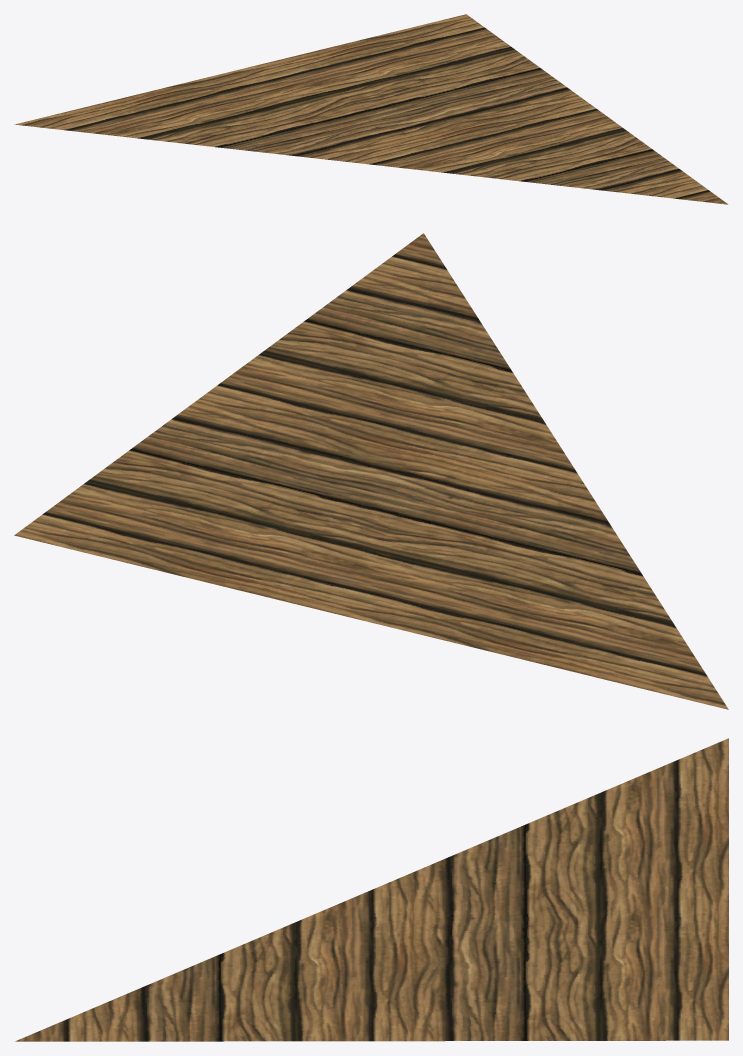
The model's file is LAKETOWN_EXTERIOR_PS_LT_PIER_WOOD15.fbx.
3 renders of one model, top to bottom at view 1: azimuth 30°, elevation 25°; view 2: azimuth 150°, elevation 25°; view 3: azimuth 270°, elevation 25°, orthographic. The views are drawn at different scales.
Parts seen in each view (by area): view 1: LAKETOWN_EXTERIOR_PS_LT_PIER_WOOD15; view 2: LAKETOWN_EXTERIOR_PS_LT_PIER_WOOD15; view 3: LAKETOWN_EXTERIOR_PS_LT_PIER_WOOD15.
Part boxes in pixels (<box>): LAKETOWN_EXTERIOR_PS_LT_PIER_WOOD15: <box>14,14,728,204</box>; LAKETOWN_EXTERIOR_PS_LT_PIER_WOOD15: <box>14,233,728,709</box>; LAKETOWN_EXTERIOR_PS_LT_PIER_WOOD15: <box>15,738,728,1041</box>.
Size of the model in its own units: 50114 by 0.0508 by 49873.
Materials: 1 (1 with a texture image).
